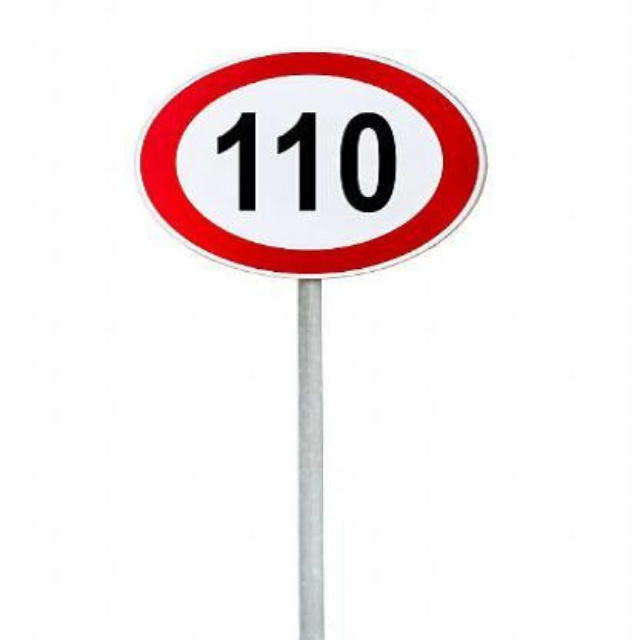Tốc độ tối đa cho phép 110km/h: (133, 49, 488, 274)
